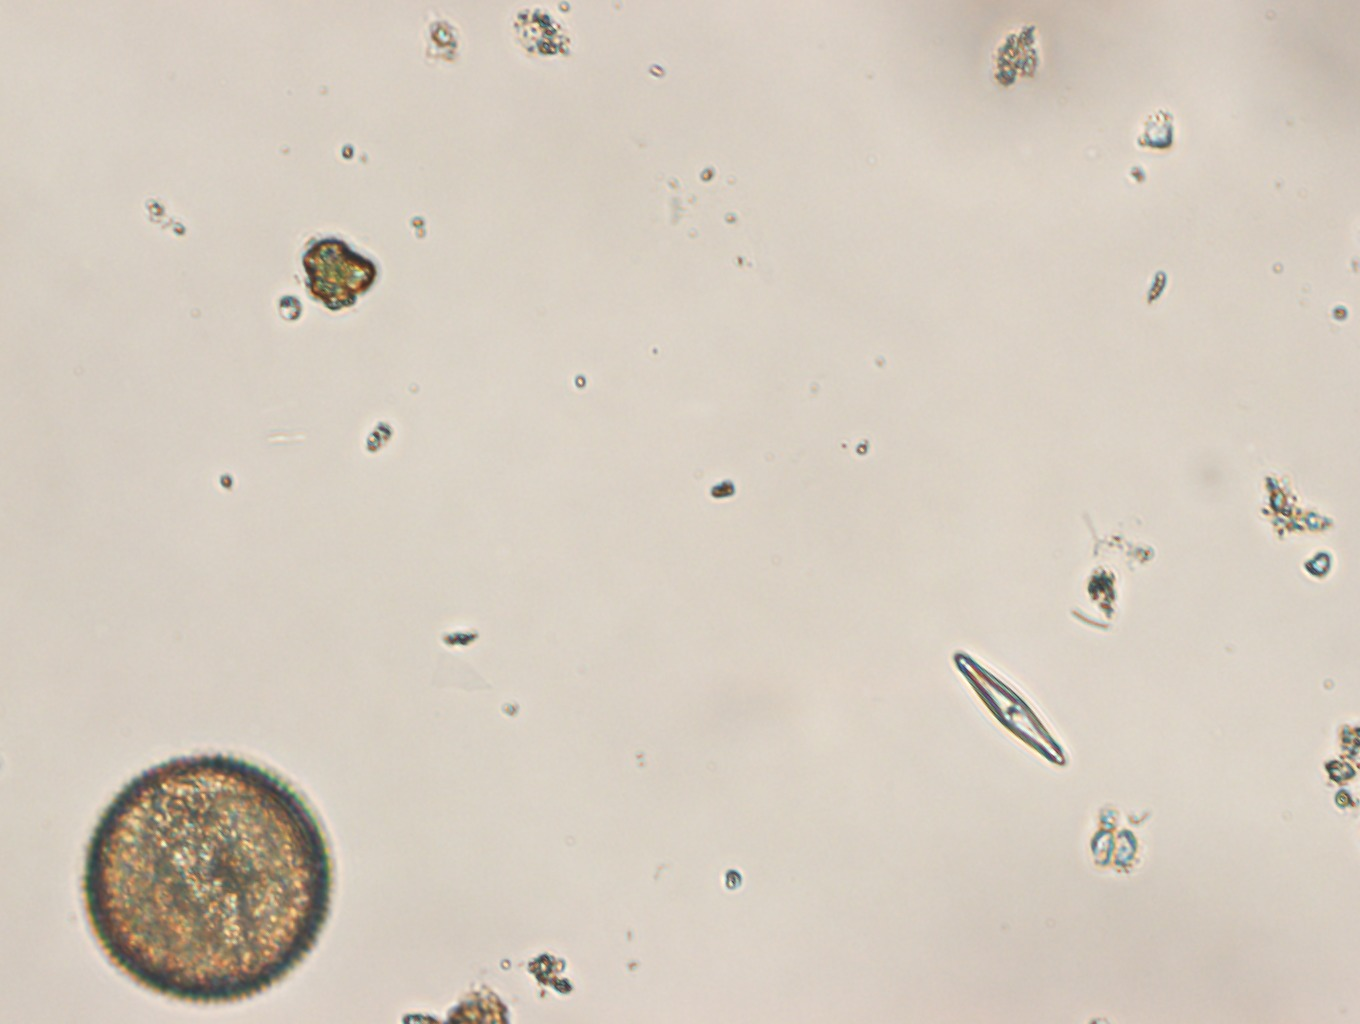corethron: (81, 746, 332, 1005)
navicula: (951, 648, 1070, 768)
